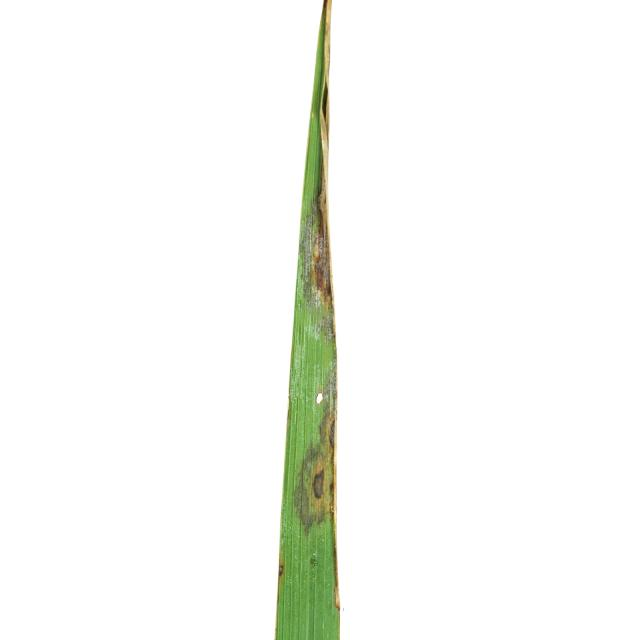Leaf scald: (196, 0, 502, 640)
